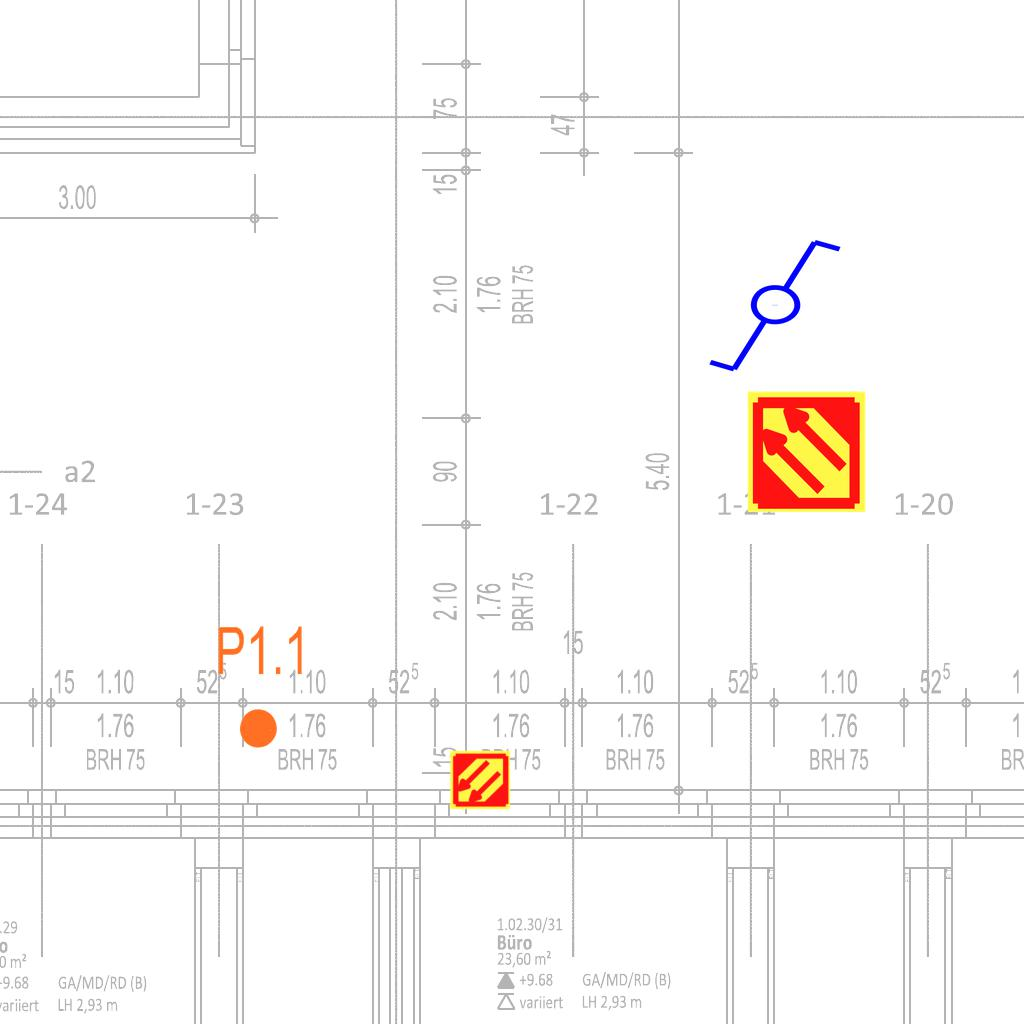ASR_Ansaugrauchmelder: (744, 389, 869, 514), (449, 749, 511, 811)
Downlight_LED_Einbauleuchten_Flur: (215, 623, 308, 751)
Wechselschalter: (705, 235, 862, 379)
